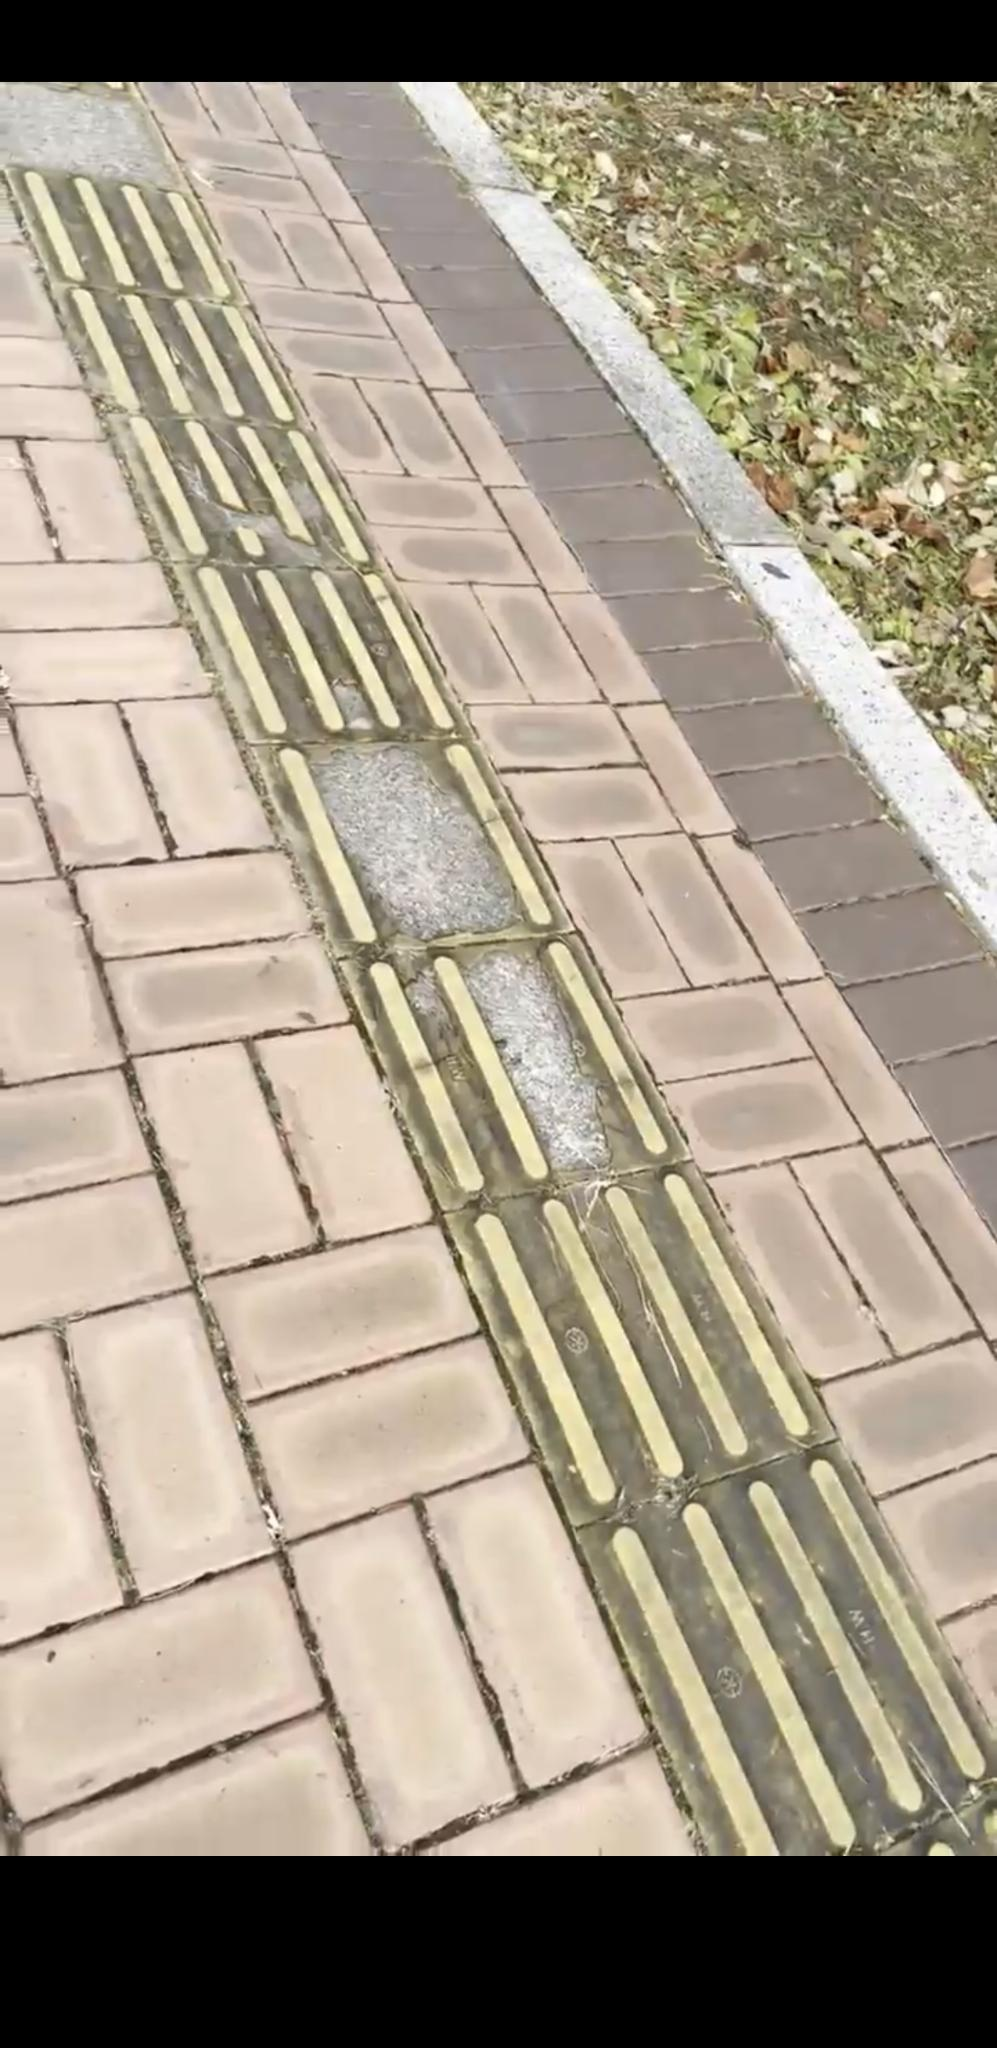Straight block broken: (338, 936, 689, 1206), (248, 739, 575, 956), (107, 417, 380, 568)
Straight block normal: (448, 1165, 832, 1522), (175, 567, 473, 741), (50, 282, 311, 427)
